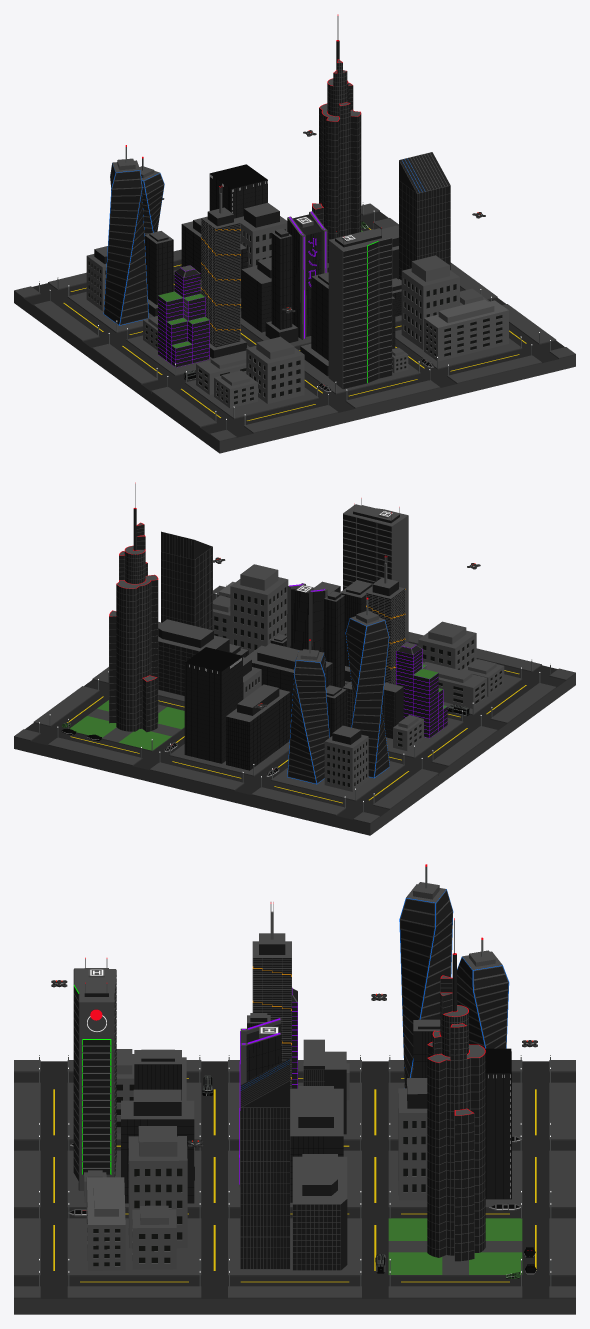
The model's file is SceneBasicTextures8.glb.
3 renders of one model, top to bottom at view 1: azimuth 30°, elevation 25°; view 2: azimuth 150°, elevation 25°; view 3: azimuth 270°, elevation 25°, orthographic. The views are drawn at different scales.
Visible parts, largest first — view 1: City.002; view 2: City.002; view 3: City.002.
Part boxes in pixels (x1,y1,x2,y2): City.002: (14,14,575,453); City.002: (14,482,575,835); City.002: (14,864,575,1314).
Bounding box in the file's own units: 35.51 × 24.08 × 35.51.
